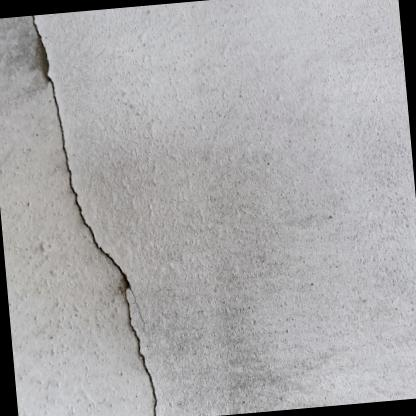crack: (31, 14, 156, 416)
